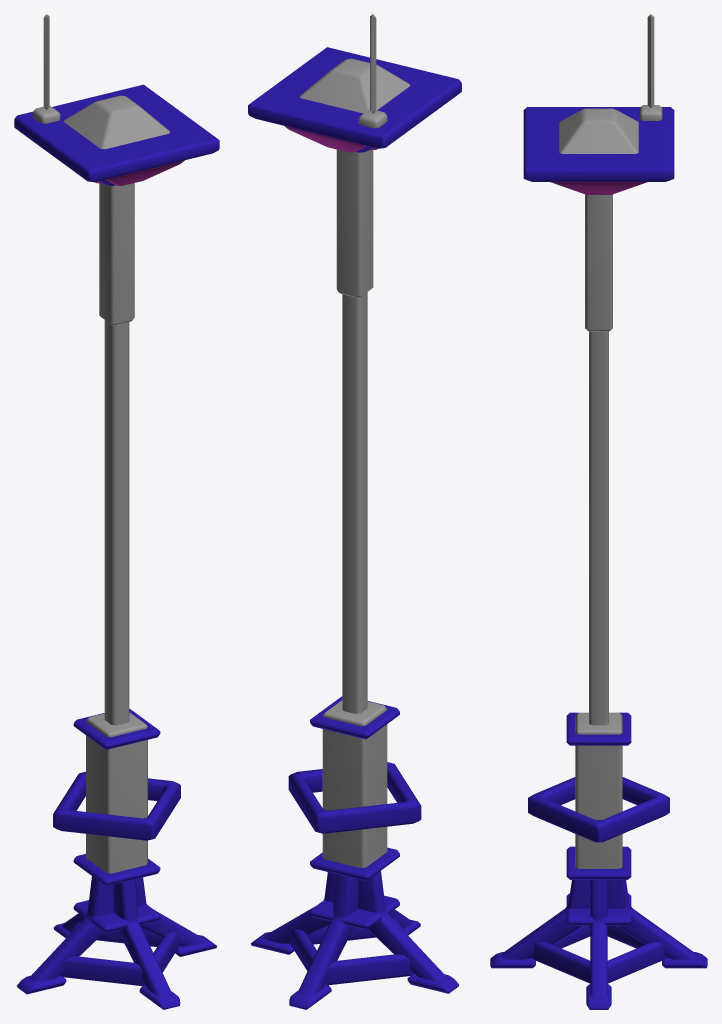
Rendered from LampPost.FBX.
3 renders of one model, left to right at view 1: azimuth 30°, elevation 25°; view 2: azimuth 150°, elevation 25°; view 3: azimuth 270°, elevation 25°, orthographic. The views are drawn at different scales.
Parts seen in each view (by area): view 1: Box037, Box038, Box053, Object002, Box049, Box040, Box039, Box043, Box041, Box048, Box050, Box052 (+2 smaller); view 2: Box037, Box038, Box053, Object002, Box049, Box042, Box039, Box043, Box041, Box048, Box050, Object001 (+3 smaller); view 3: Box037, Box038, Box053, Box049, Object002, Box041, Box040, Box042, Box043, Box048, Box050, Object001 (+3 smaller).
Part boxes in pixels (<box>): Box037: <box>86,183,147,873</box>; Box038: <box>14,84,219,185</box>; Box053: <box>53,771,180,840</box>; Object002: <box>63,95,170,149</box>; Box049: <box>60,921,179,985</box>; Box040: <box>113,879,171,996</box>; Box039: <box>28,876,113,981</box>; Box043: <box>73,708,160,749</box>; Box041: <box>136,877,204,946</box>; Box048: <box>73,854,160,886</box>; Box050: <box>73,900,160,933</box>; Box052: <box>43,14,49,109</box>; Box037: <box>322,149,387,867</box>; Box038: <box>248,47,461,152</box>; Box053: <box>288,762,421,833</box>; Object002: <box>299,58,410,113</box>; Box049: <box>289,917,414,984</box>; Box042: <box>298,874,358,995</box>; Box039: <box>358,871,446,980</box>; Box043: <box>310,696,399,739</box>; Box041: <box>263,872,335,943</box>; Box048: <box>310,847,399,881</box>; Box050: <box>310,895,399,929</box>; Object001: <box>284,126,377,152</box>; Box037: <box>575,194,622,868</box>; Box038: <box>523,107,674,184</box>; Box053: <box>528,777,669,842</box>; Box049: <box>531,926,666,983</box>; Object002: <box>559,108,638,153</box>; Box041: <box>590,880,607,997</box>; Box040: <box>501,880,590,959</box>; Box042: <box>607,880,696,959</box>; Box043: <box>566,712,631,745</box>; Box048: <box>566,846,631,879</box>; Box050: <box>566,893,631,925</box>; Object001: <box>552,182,645,194</box>.
Bounding box in the file's own units: 62.6 × 296 × 62.6.
